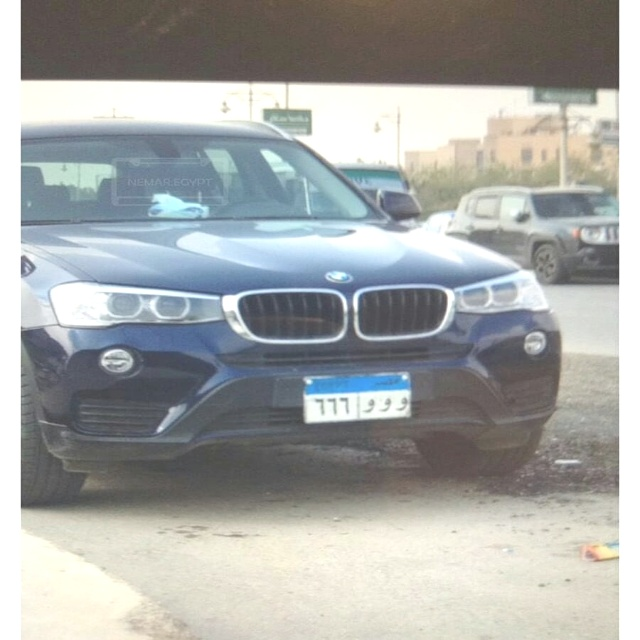License Plate: (299, 370, 413, 426)
